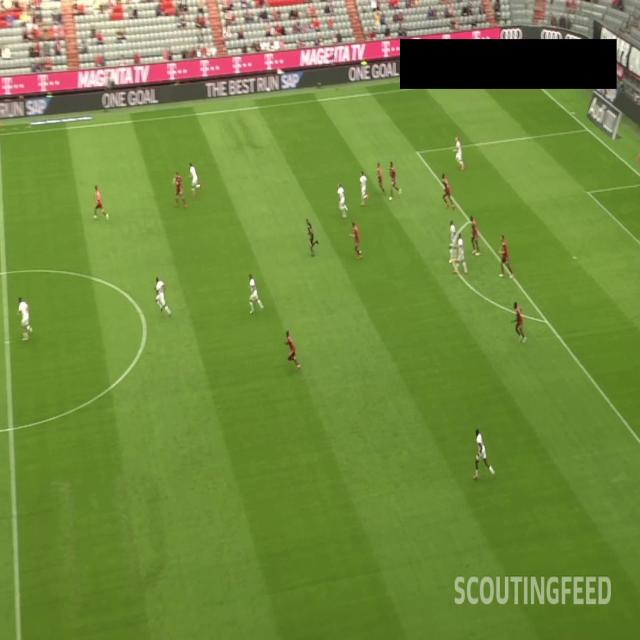ball: (265, 84, 271, 96)
player: (472, 427, 495, 481), (151, 275, 173, 318), (16, 295, 34, 343), (496, 232, 514, 280), (186, 160, 205, 200), (282, 328, 301, 368), (511, 299, 527, 346), (171, 168, 188, 208), (453, 231, 468, 275), (92, 183, 109, 221), (248, 271, 263, 314), (347, 221, 363, 260), (388, 160, 402, 201), (441, 170, 455, 211), (469, 214, 481, 256), (336, 181, 348, 219), (448, 217, 458, 262), (452, 136, 465, 170), (359, 168, 370, 206), (375, 158, 386, 193)
referee: (306, 216, 319, 258)
